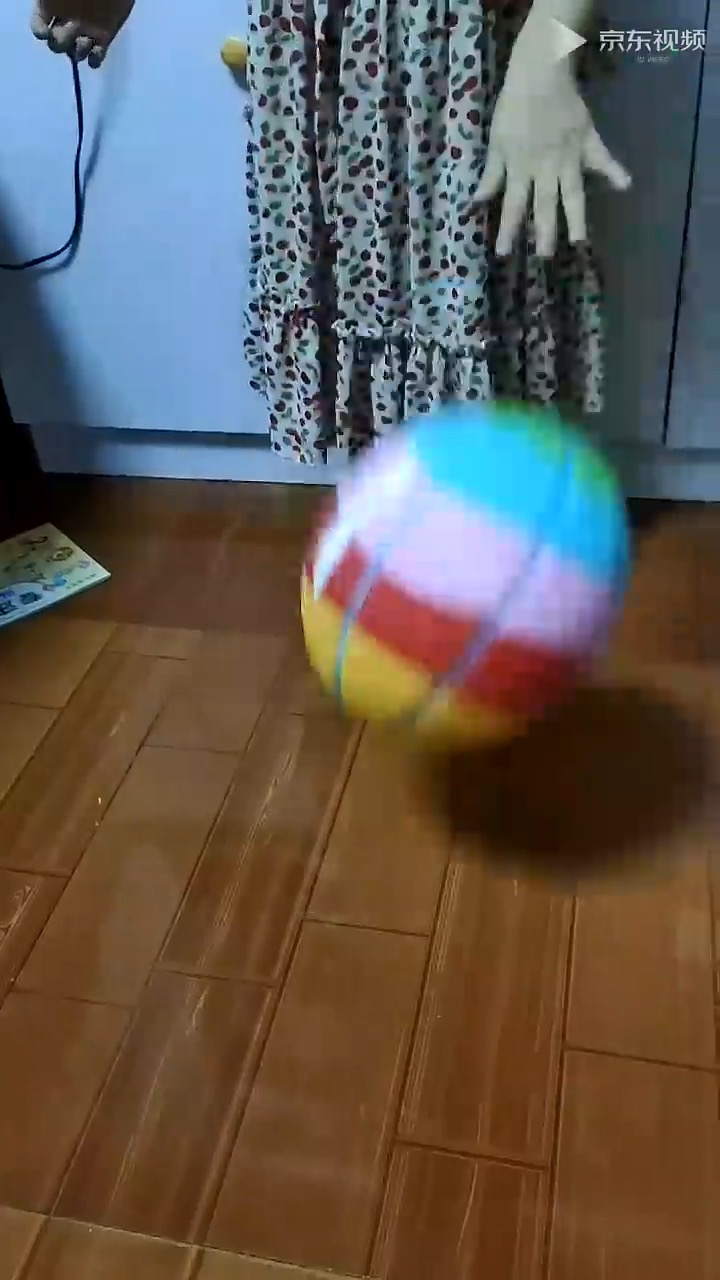ball: (298, 399, 632, 751)
